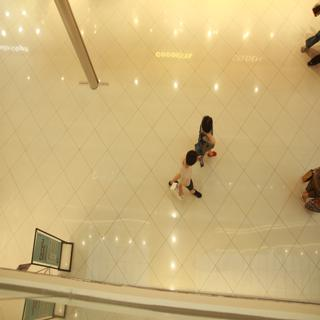person: (162, 142, 206, 207), (190, 107, 230, 168)
